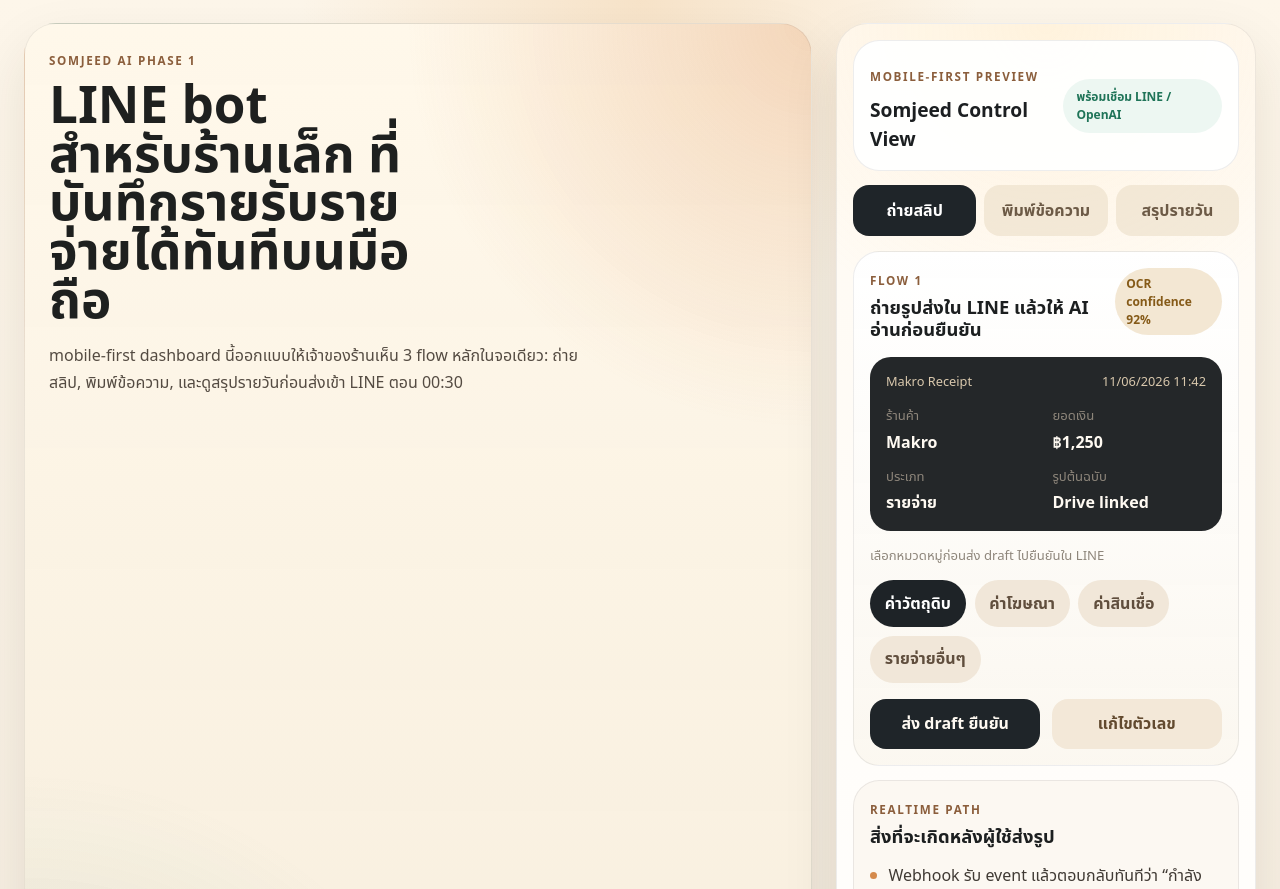
Test: App mobile-first flow shell › switches to the text entry flow
This screenshot has width=1280, height=889.
Step 1. Click the button "พิมพ์ข้อความ" → [1046, 211], box [984,185,1108,236]
(page scrolled)
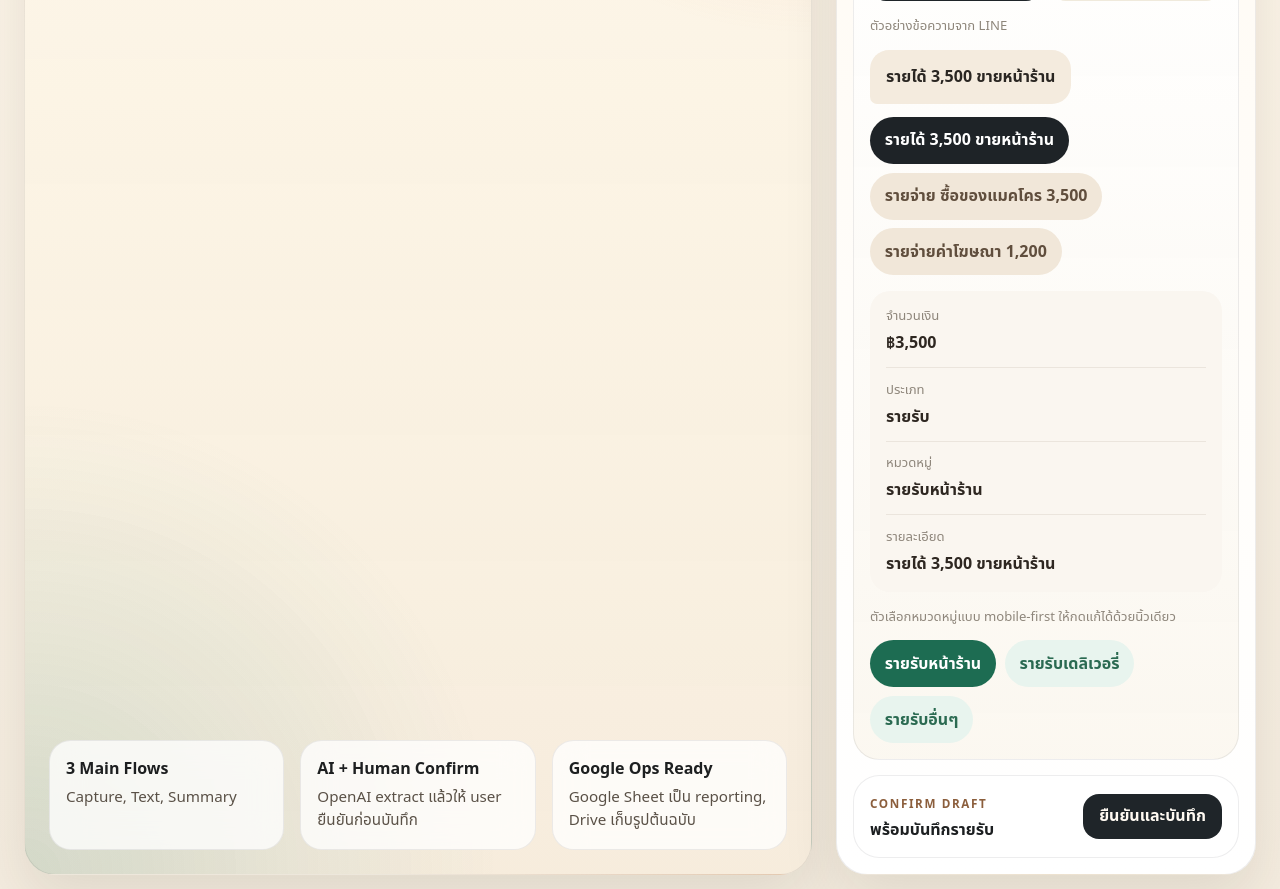
Now the button "ยืนยันและบันทึก" is shown, box [1083,794,1222,839]
